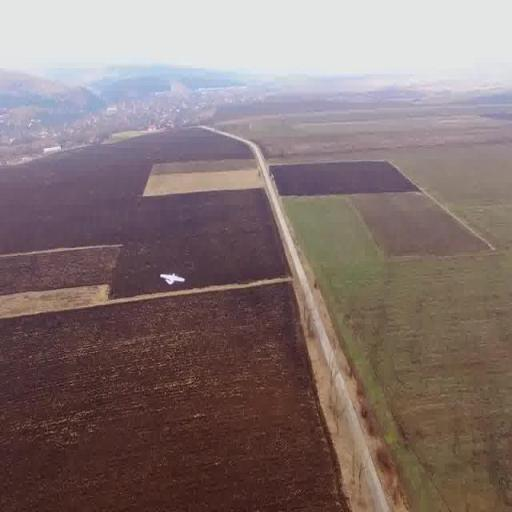uav: (158, 260, 191, 298)
